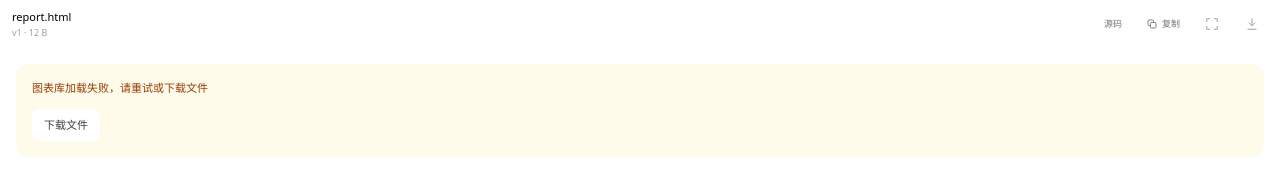
keeps original source accessible when a local chart library fails
Expected: the text "图表库加载失败，请重试或下载文件" is shown, [32,80,208,95]
Click the button "源码": (1113, 24) [1096,13,1130,35]
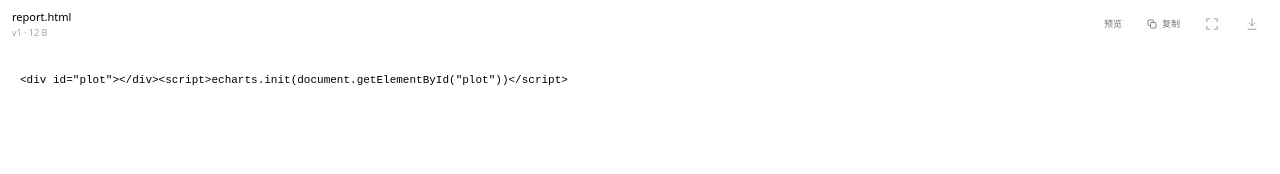
Expected: the text "<div id=\"plot\"></div><script>echarts.init(document.getElementById(\"plot\"))</script>" is shown, [20,74,568,86]
